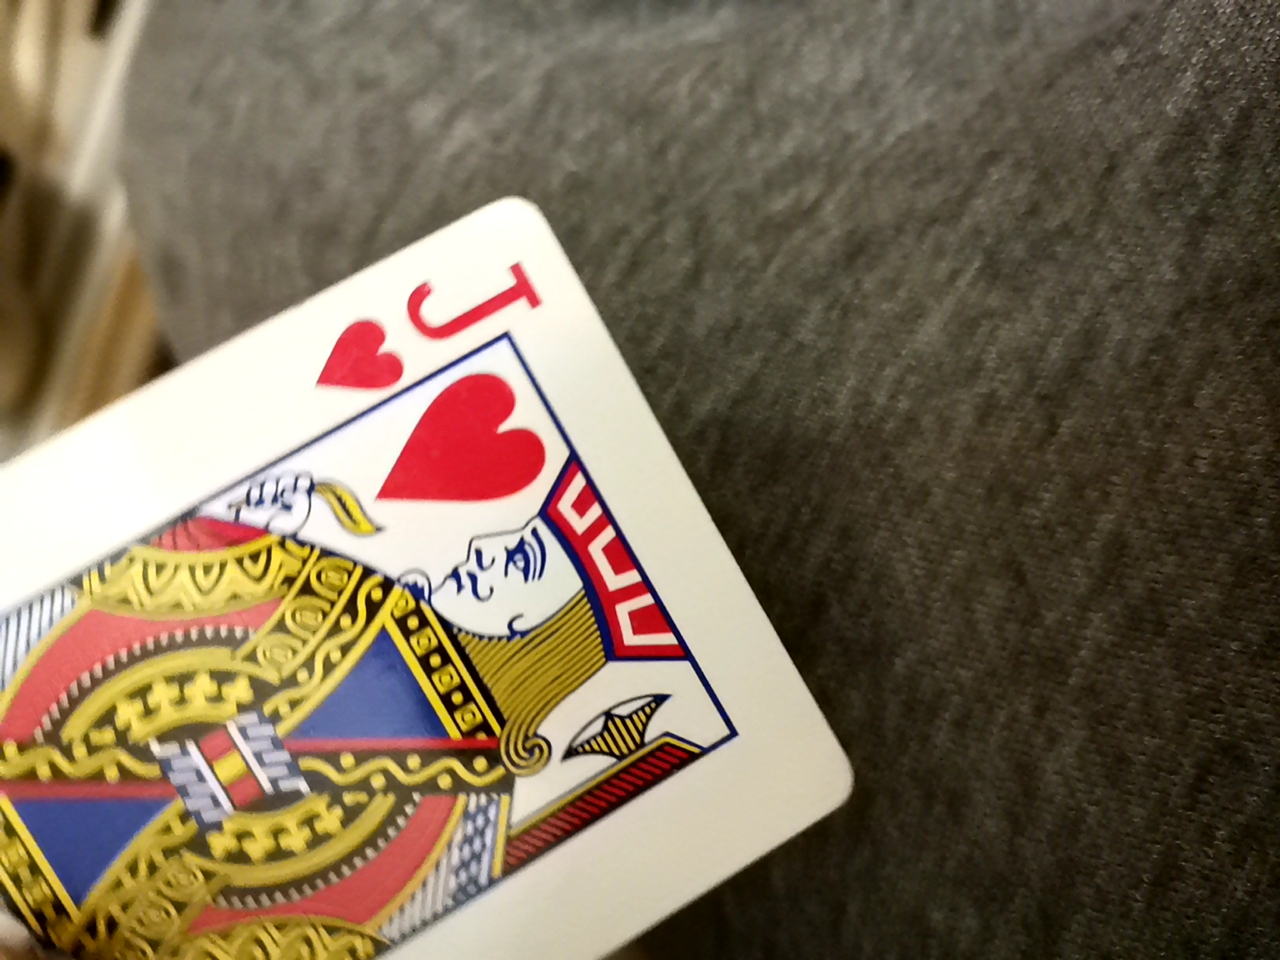hx j: (5, 190, 901, 957)
